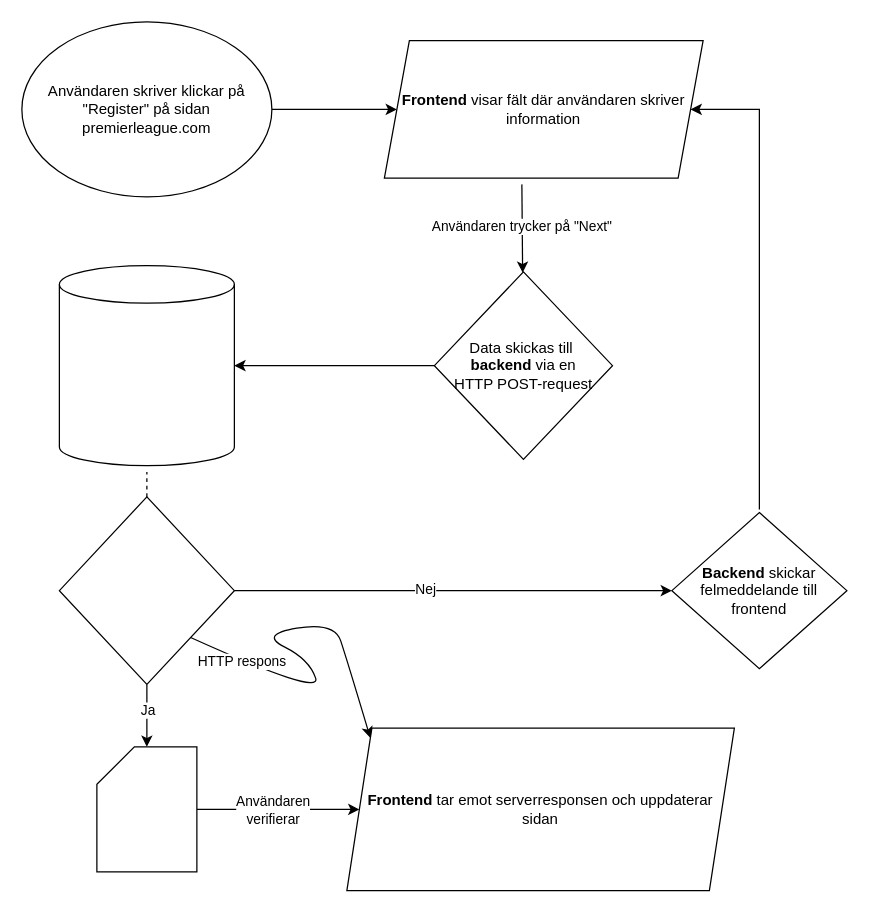
Image size: 869x913. Some labels were removed from this diagram. Each missing label, with the centre of its shape:
Backend logik validerar data: the point at 146,365
Backend skickar bekräftelse-mejl: the point at 146,809
Är uppgifterna ifyllda korrekt och säkert?: the point at 146,590
